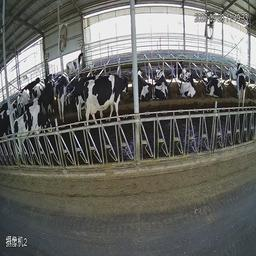cow: (93, 66, 130, 127), (10, 108, 57, 153), (73, 70, 94, 120), (202, 62, 226, 105), (53, 68, 72, 122), (232, 53, 249, 113), (178, 63, 199, 108), (151, 62, 171, 102), (29, 71, 51, 106), (137, 58, 154, 103), (63, 46, 88, 73)
